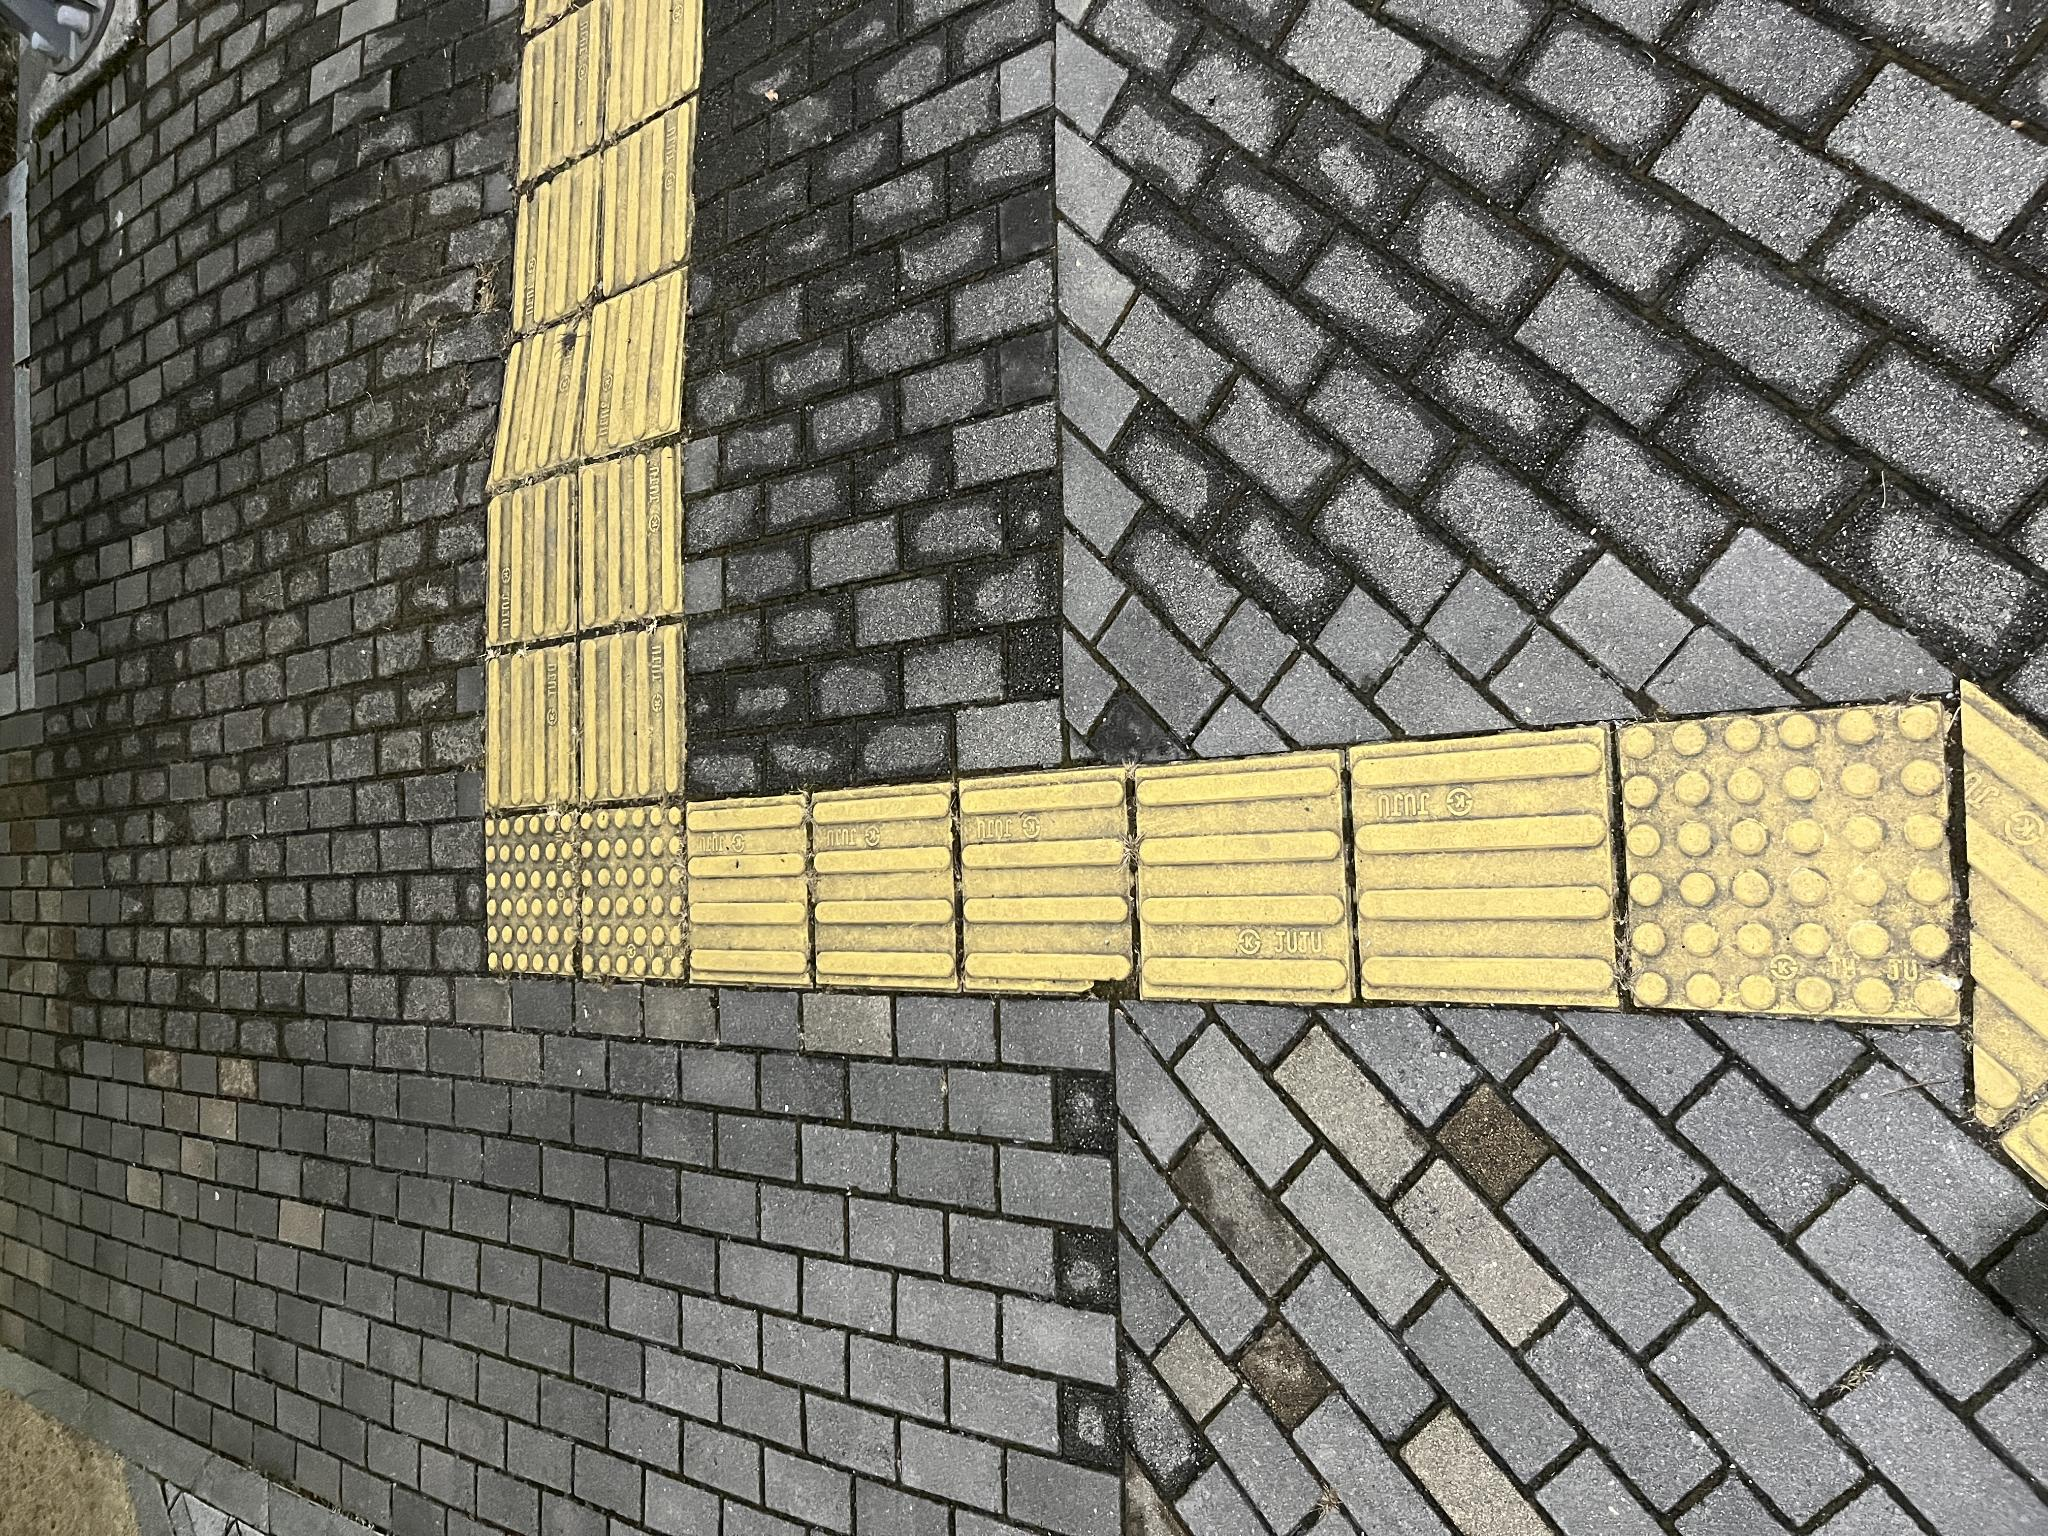Stop block normal: (556, 582, 732, 684)
Straight block normal: (537, 1136, 782, 1354), (531, 1349, 805, 1536), (545, 960, 768, 1133), (547, 813, 755, 958), (552, 687, 742, 807), (1077, 582, 1269, 686), (906, 579, 1093, 682), (1238, 603, 1438, 695), (732, 581, 911, 681)
